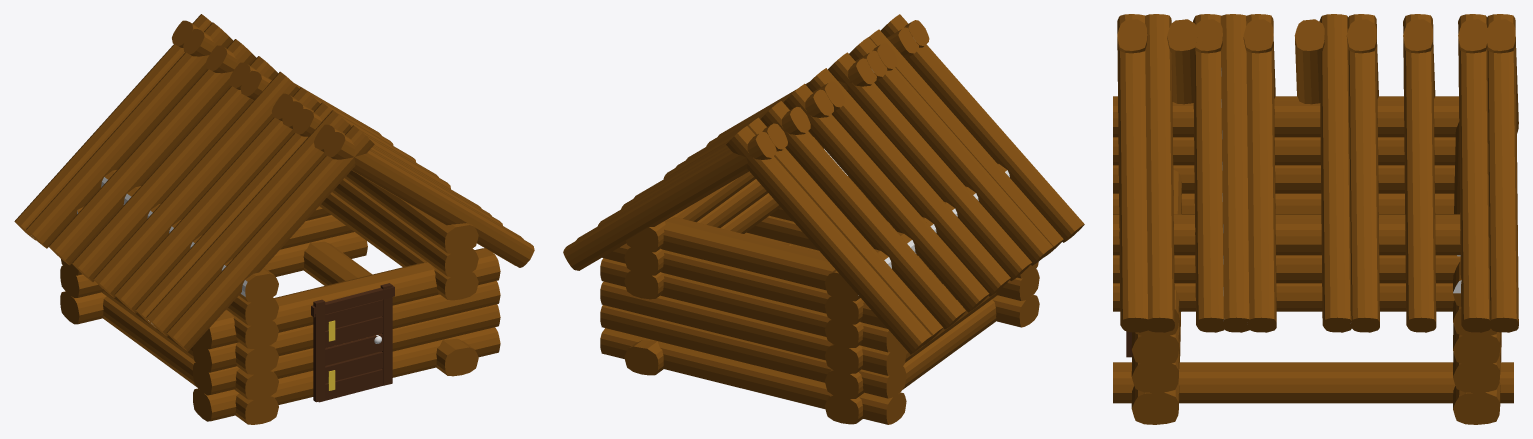
File: HouseMiddlet.fbx
The picture shows the model from 3 angles, left to right: view 1: azimuth 30°, elevation 25°; view 2: azimuth 150°, elevation 25°; view 3: azimuth 270°, elevation 25°; orthographic projection. The views are drawn at different scales.
Parts seen in each view (by area): view 1: Cube.026, Cube.048, Cube.052, Cube.040, Cube.044, Cube.030, Cube.036, Cube.027, Cube.011, Cube.009, Cube.008, Cube.010 (+31 smaller); view 2: Cube.054, Cube.044, Cube.048, Cube.036, Cube.040, Cube.032, Cube.026, Cube.012, Cube.013, Cube.014, Cube.055, Cube.023 (+25 smaller); view 3: Cube.004, Cube.043, Cube.049, Cube.029, Cube.053, Cube.055, Cube.045, Cube.033, Cube.035, Cube.027, Cube.037, Cube.021 (+24 smaller).
Part boxes in pixels (x1,y1,x2,y2): Cube.026: [166, 125, 374, 351]; Cube.048: [48, 39, 256, 265]; Cube.052: [26, 22, 232, 248]; Cube.040: [93, 71, 299, 297]; Cube.044: [72, 56, 278, 282]; Cube.030: [146, 110, 351, 336]; Cube.036: [114, 87, 319, 313]; Cube.027: [324, 132, 534, 267]; Cube.011: [199, 248, 500, 349]; Cube.009: [193, 304, 500, 395]; Cube.008: [193, 327, 500, 421]; Cube.010: [193, 281, 500, 372]; Cube.054: [726, 126, 931, 354]; Cube.044: [783, 83, 989, 312]; Cube.048: [760, 101, 965, 329]; Cube.036: [828, 52, 1032, 280]; Cube.040: [806, 68, 1010, 296]; Cube.032: [849, 37, 1053, 265]; Cube.026: [880, 14, 1084, 242]; Cube.012: [600, 328, 906, 424]; Cube.013: [600, 305, 906, 398]; Cube.014: [600, 281, 906, 375]; Cube.055: [563, 131, 776, 270]; Cube.023: [661, 217, 835, 290]; Cube.004: [1113, 362, 1513, 403]; Cube.043: [1319, 14, 1351, 332]; Cube.049: [1403, 14, 1436, 332]; Cube.029: [1145, 14, 1174, 332]; Cube.053: [1458, 14, 1490, 332]; Cube.055: [1487, 14, 1518, 332]; Cube.045: [1348, 14, 1379, 332]; Cube.033: [1193, 14, 1224, 332]; Cube.035: [1221, 14, 1249, 332]; Cube.027: [1117, 14, 1147, 332]; Cube.037: [1246, 14, 1276, 332]; Cube.021: [1113, 214, 1460, 255].
Size of the model in its own units: 1019 by 717 by 818.
